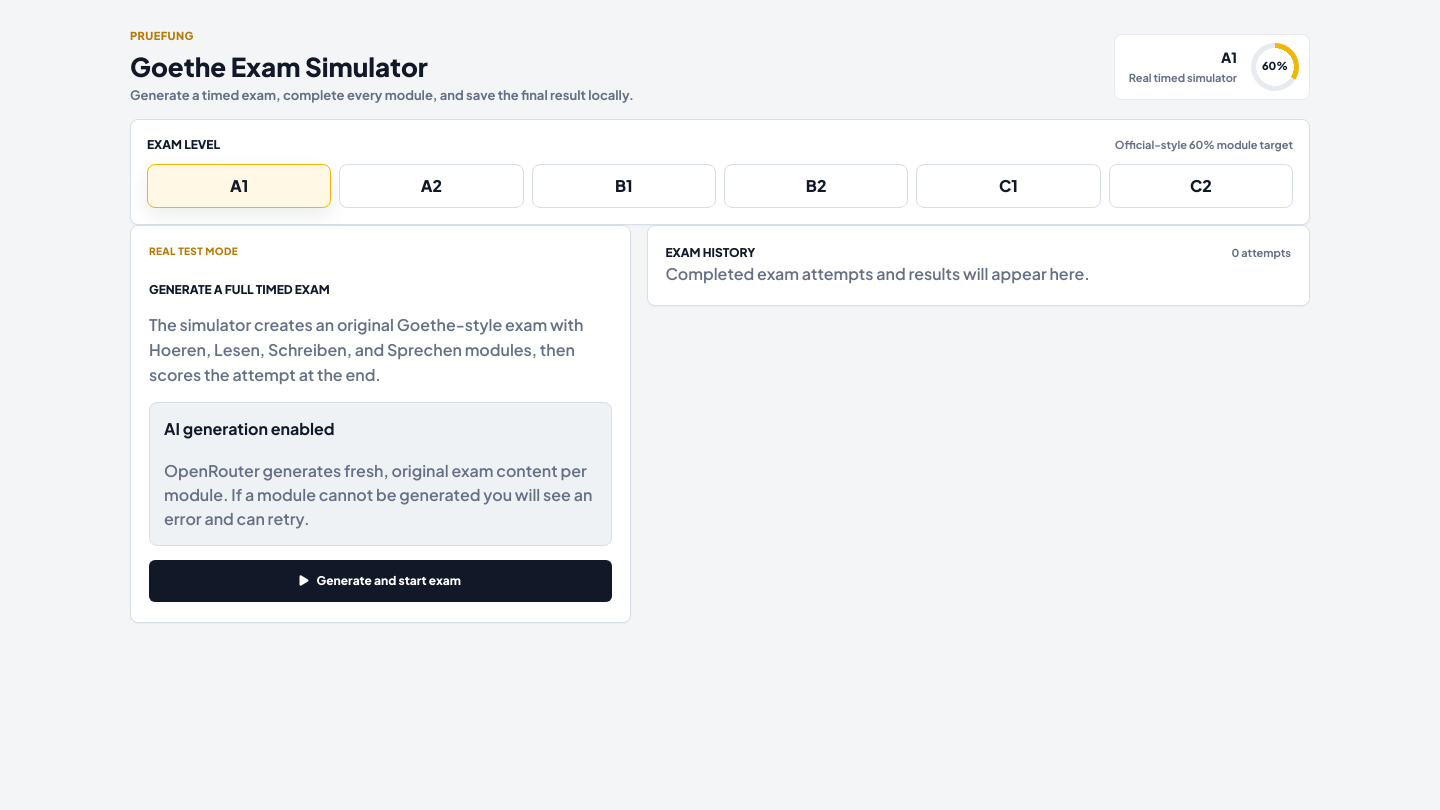
it: ExamSimulatorPage › shows an error and a retry button instead of a fake exam when generation fails
The image size is (1440, 810).
Click the button "Generate and start exam". click: click(380, 581)
box: [149,560,612,602]
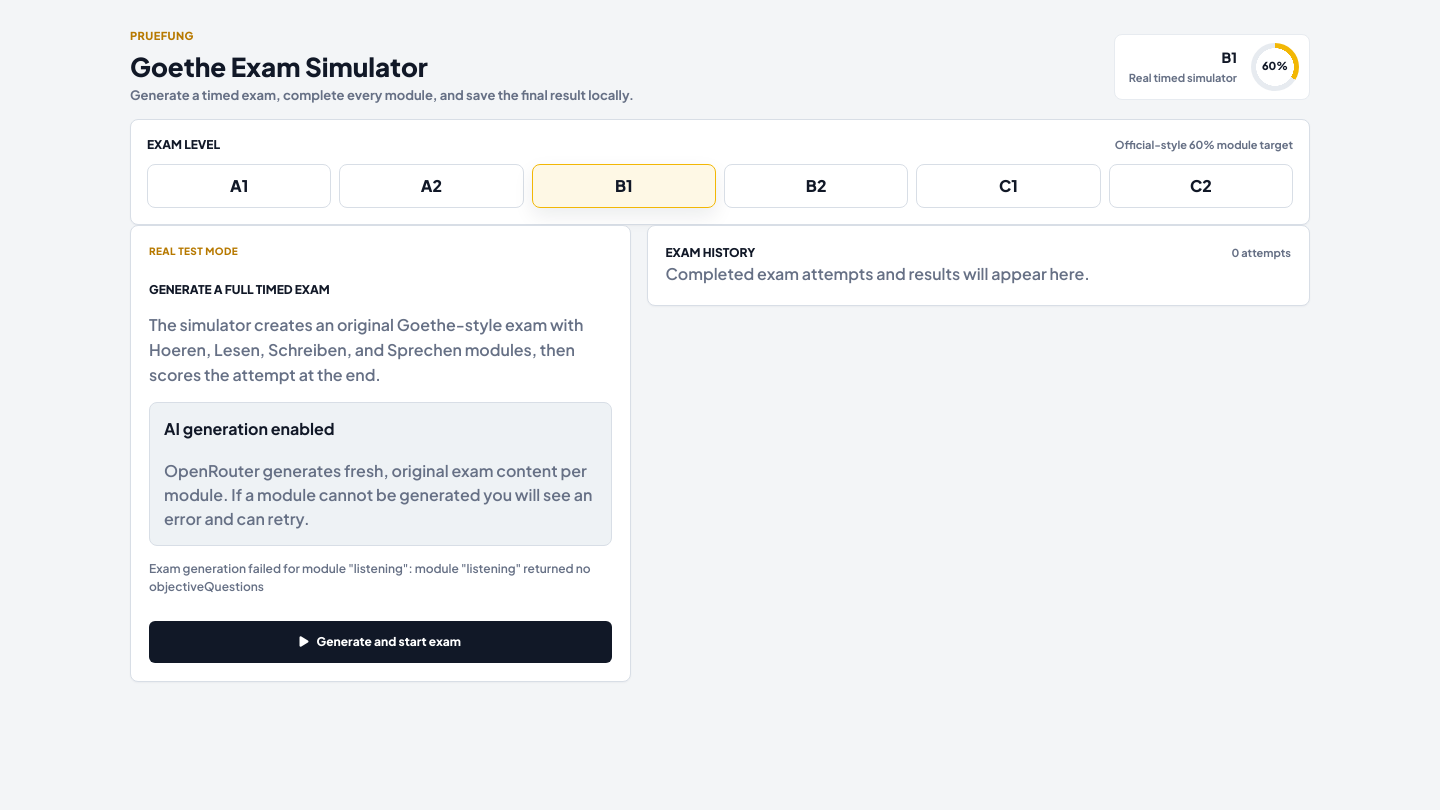
Expected: the button "Generate and start exam" is shown, [149,621,612,663]
Expected: the text "Exam generation failed" is shown, [149,561,590,594]
